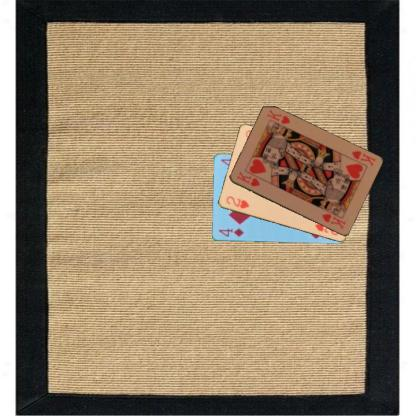2h: (224, 194, 250, 210)
4d: (216, 225, 245, 238)
Kh: (234, 168, 261, 187), (349, 148, 376, 167)
